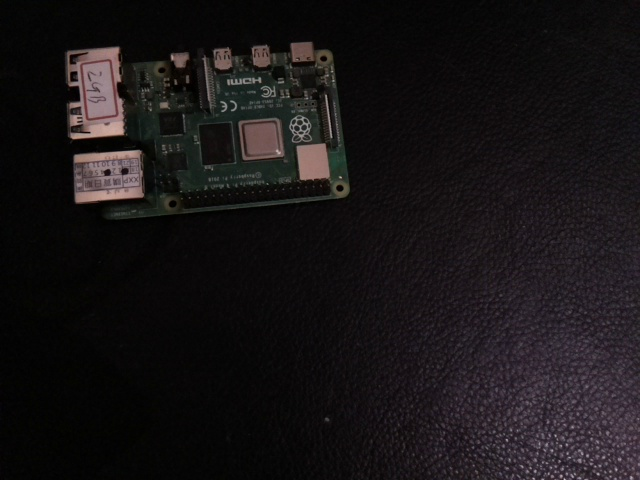pi4: (65, 1, 353, 288)
